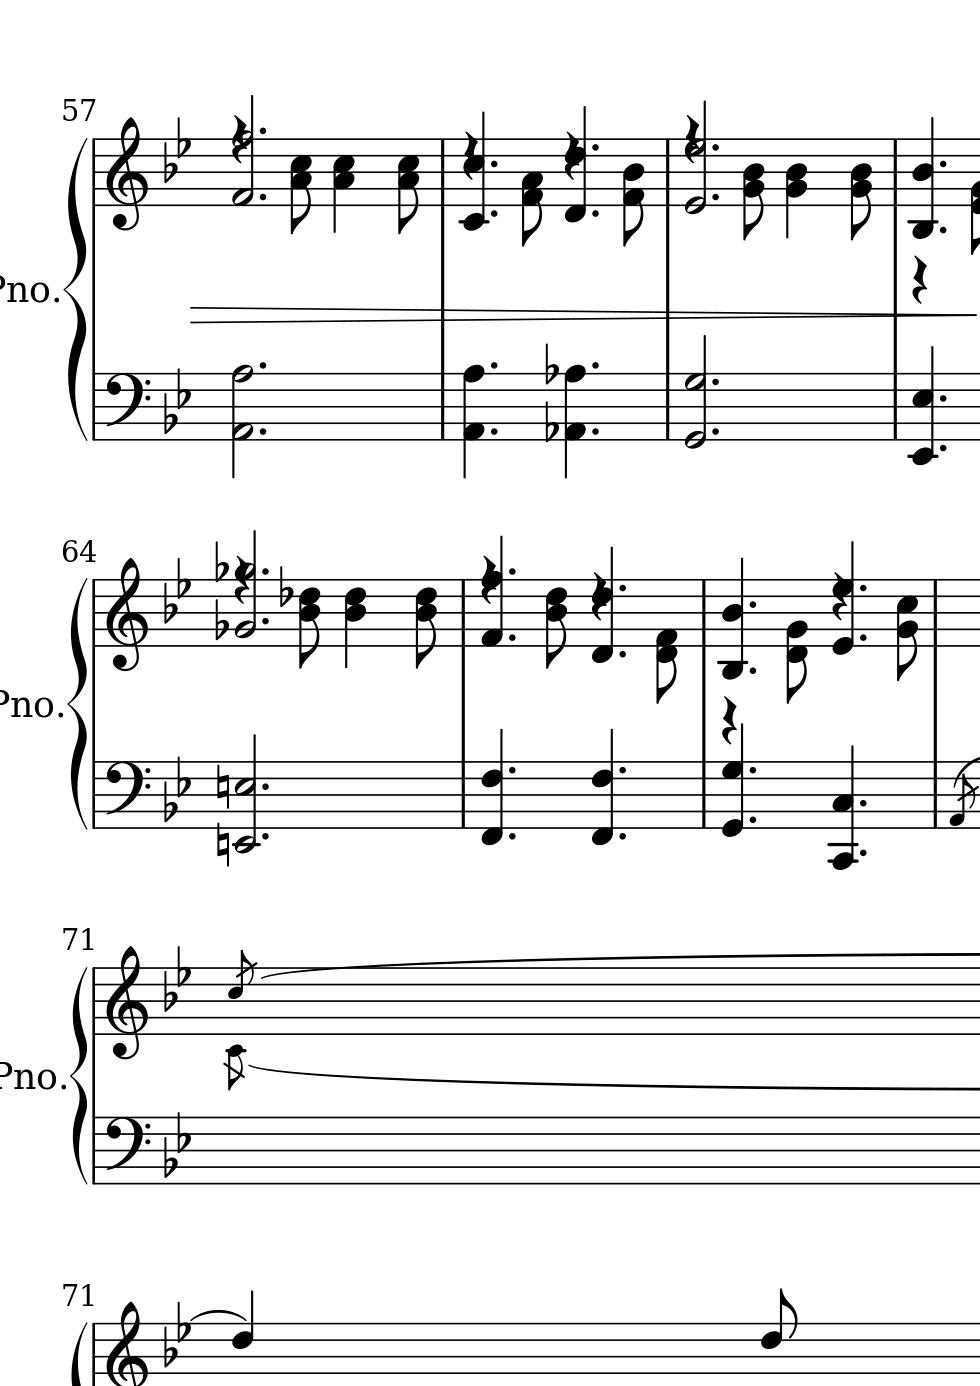1: (78, 1282, 95, 1310), (80, 926, 95, 954)
2_-2_5: (232, 734, 261, 855)
2_0_7: (683, 334, 710, 449)
2_1_8: (230, 363, 253, 481)
4: (78, 537, 97, 565)
4_-1_6: (482, 727, 506, 846), (591, 727, 615, 846), (720, 723, 746, 837)
4_-2_5: (907, 346, 941, 466)
4_-3_4: (908, 117, 940, 242), (717, 558, 749, 680)
4_-4_3: (827, 744, 861, 872)
4_1_8: (562, 364, 588, 480), (461, 364, 486, 479)
4_2_4: (784, 137, 808, 240)
4_3_5: (332, 138, 356, 233)
4_4_6: (342, 577, 367, 669)
4_6: (230, 1288, 256, 1386)
5: (60, 95, 78, 125)
6: (62, 536, 78, 563)
7: (62, 925, 78, 954), (80, 97, 97, 125), (62, 1281, 78, 1310)
8_-1_1: (655, 577, 679, 707)
8_-1_2: (784, 577, 809, 705)
8_1_3: (520, 138, 544, 250)
8_1_4: (622, 136, 645, 247)
8_2_4: (848, 136, 873, 241), (741, 136, 765, 241)
8_2_5: (895, 577, 918, 681)
8_3_5: (290, 137, 313, 233), (396, 138, 419, 234)
8_4_6: (543, 577, 570, 669), (297, 578, 322, 670), (414, 576, 439, 668)
8_6: (759, 1286, 797, 1384)
Acciaccature: (223, 947, 260, 1038), (944, 759, 980, 830)
B_F: (160, 115, 193, 185), (161, 1110, 192, 1179), (161, 367, 192, 435), (161, 756, 192, 824), (161, 945, 192, 1013), (161, 1301, 191, 1367)
Brace: (62, 134, 86, 443), (66, 572, 89, 826), (70, 960, 88, 1182)
Fclef: (102, 1115, 151, 1186), (102, 760, 150, 830), (103, 371, 150, 442)
Flat: (542, 341, 559, 385), (542, 400, 558, 445), (277, 564, 292, 610), (213, 598, 228, 641), (214, 540, 228, 582)
Gclef: (104, 556, 148, 673), (104, 116, 148, 232), (104, 944, 148, 1060)
Natural: (213, 761, 231, 810), (215, 821, 230, 869)
Pno: (1, 1059, 56, 1094)
Rests4: (683, 109, 705, 166), (909, 253, 928, 308)
Single_barline: (434, 374, 452, 439), (927, 761, 944, 828), (434, 139, 451, 205), (455, 580, 471, 646), (696, 580, 712, 646), (927, 580, 943, 646), (455, 762, 471, 828), (887, 139, 903, 204), (887, 374, 903, 439), (87, 967, 102, 1034), (660, 139, 675, 205), (660, 374, 675, 439), (88, 138, 102, 207), (696, 764, 711, 827), (88, 373, 102, 440), (88, 1117, 102, 1183), (88, 579, 101, 647), (89, 761, 102, 828)
Slur: (189, 1308, 247, 1323)
dot: (588, 359, 603, 373), (937, 157, 950, 171), (487, 359, 501, 373), (937, 441, 950, 455), (746, 598, 759, 612), (938, 391, 950, 406), (747, 812, 759, 827), (708, 140, 721, 154), (708, 424, 721, 438), (747, 764, 759, 777), (590, 425, 602, 438), (255, 190, 268, 201), (489, 425, 501, 439), (506, 764, 518, 777), (617, 764, 629, 777), (506, 829, 518, 843), (589, 141, 601, 153), (487, 157, 498, 170), (589, 207, 600, 220), (710, 376, 721, 389), (256, 425, 268, 437), (616, 582, 629, 594), (258, 615, 270, 627), (616, 829, 628, 842), (857, 847, 869, 860), (258, 566, 272, 577), (708, 191, 720, 203), (259, 780, 270, 792), (256, 126, 268, 137), (488, 207, 498, 220), (938, 224, 948, 236), (256, 361, 268, 371), (506, 631, 517, 644), (857, 631, 868, 644), (748, 664, 758, 677), (259, 831, 272, 842), (506, 567, 518, 578), (857, 582, 868, 594), (617, 647, 627, 660), (858, 797, 868, 809)
